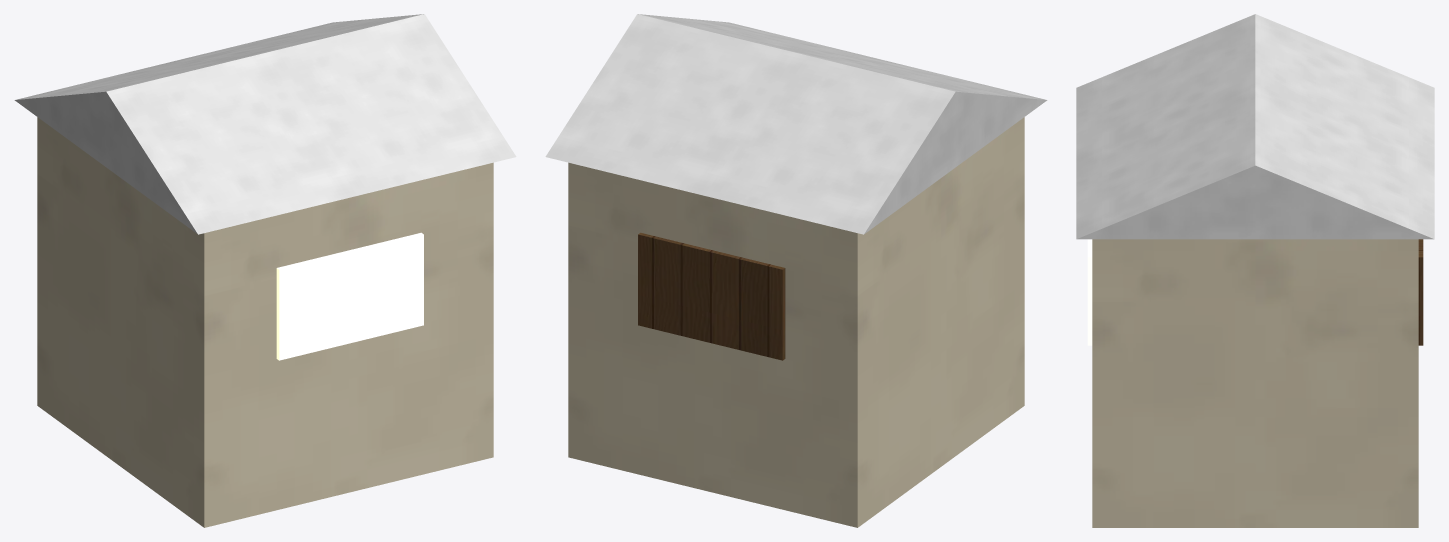
The model's file is tollbooth.glb.
3 views of the same model, side by side, from view 1: azimuth 30°, elevation 25°; view 2: azimuth 150°, elevation 25°; view 3: azimuth 270°, elevation 25° (orthographic). The views are drawn at different scales.
Parts seen in each view (by area): view 1: castle.tollbooth; view 2: castle.tollbooth; view 3: castle.tollbooth.
Part boxes in pixels (left/top/right/bottom): castle.tollbooth: left=14, top=14, right=516, bottom=527; castle.tollbooth: left=545, top=14, right=1047, bottom=527; castle.tollbooth: left=1076, top=14, right=1434, bottom=527.
Size of the model in its own units: 2.2 by 2.5 by 2.2.
Materials: 4 (3 with a texture image).
